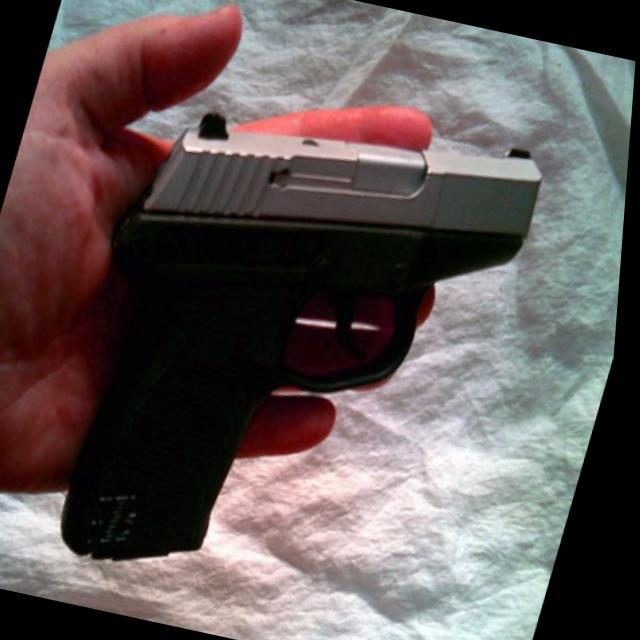weapon: (26, 64, 560, 627)
